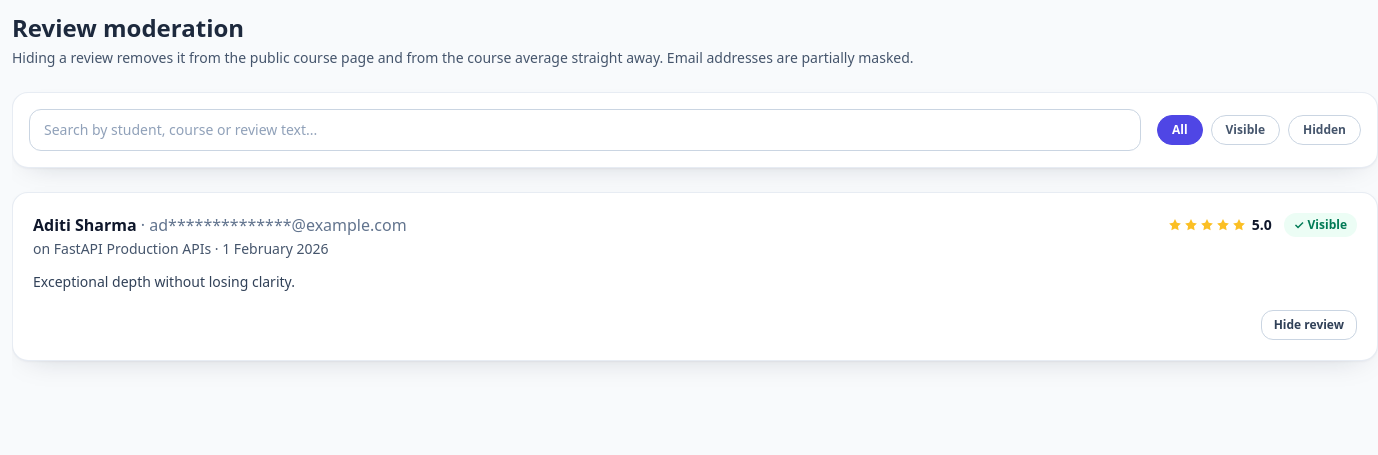
Test: AdminReviewsPage moderation › hides a review and refreshes the list
Click the button "Hide review".
click(1309, 325)  # box left=1261, top=310, right=1357, bottom=340
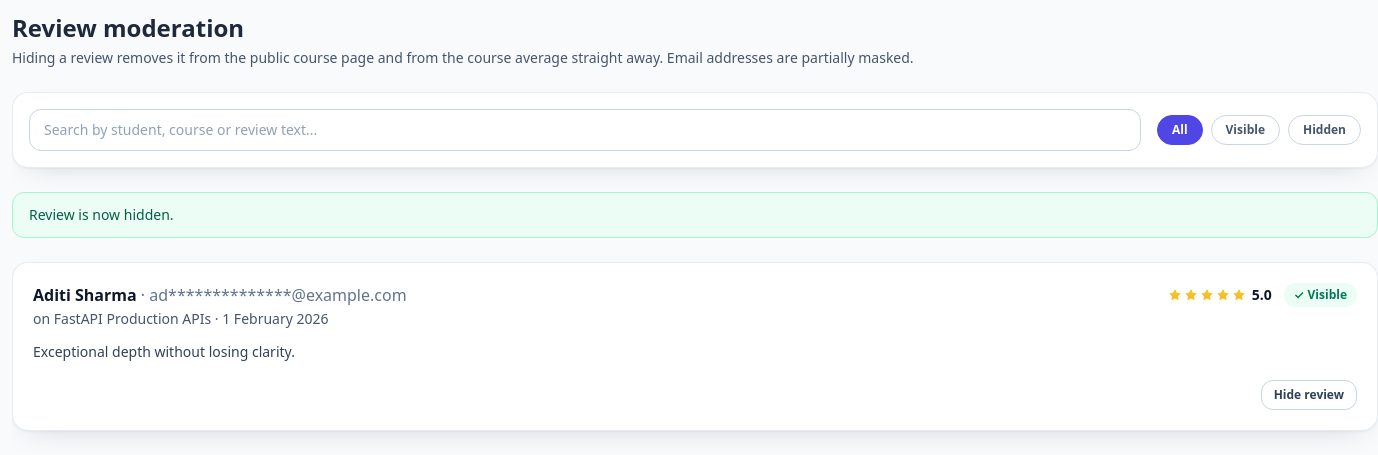
Now the message shows "Review is now hidden", box left=29, top=205, right=174, bottom=224
